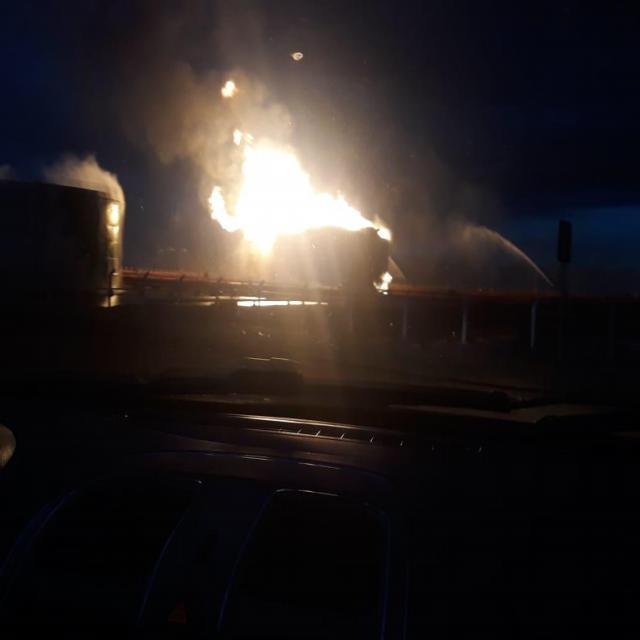Fire: (196, 140, 371, 254)
